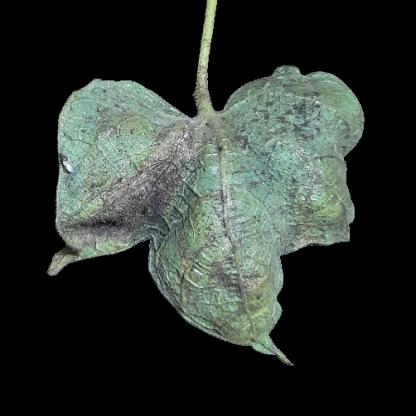curl_stage2: (78, 92, 164, 144), (194, 301, 280, 336)
sooty: (112, 154, 205, 226), (265, 94, 329, 156)
